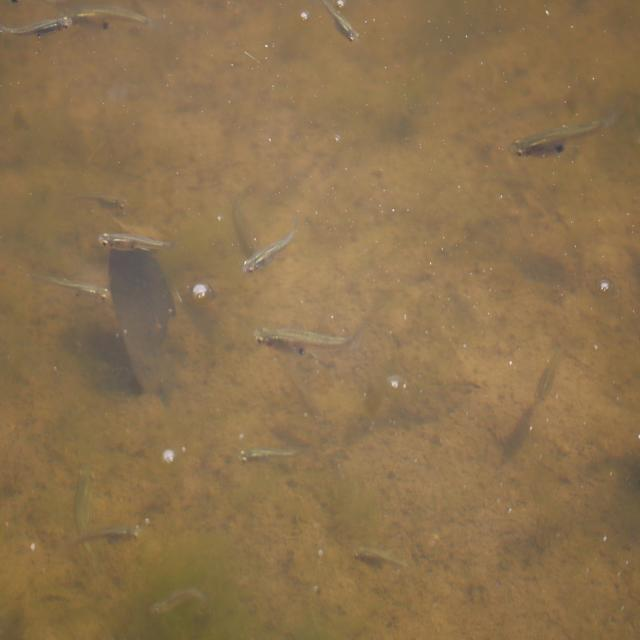Sivrisinek Baligi: (504, 104, 620, 176), (250, 311, 364, 364), (22, 258, 116, 319), (237, 214, 305, 282), (84, 221, 180, 262), (356, 536, 416, 584), (0, 12, 75, 50), (144, 578, 210, 620), (531, 334, 567, 411), (234, 438, 304, 475), (310, 0, 374, 40), (72, 522, 149, 550)
